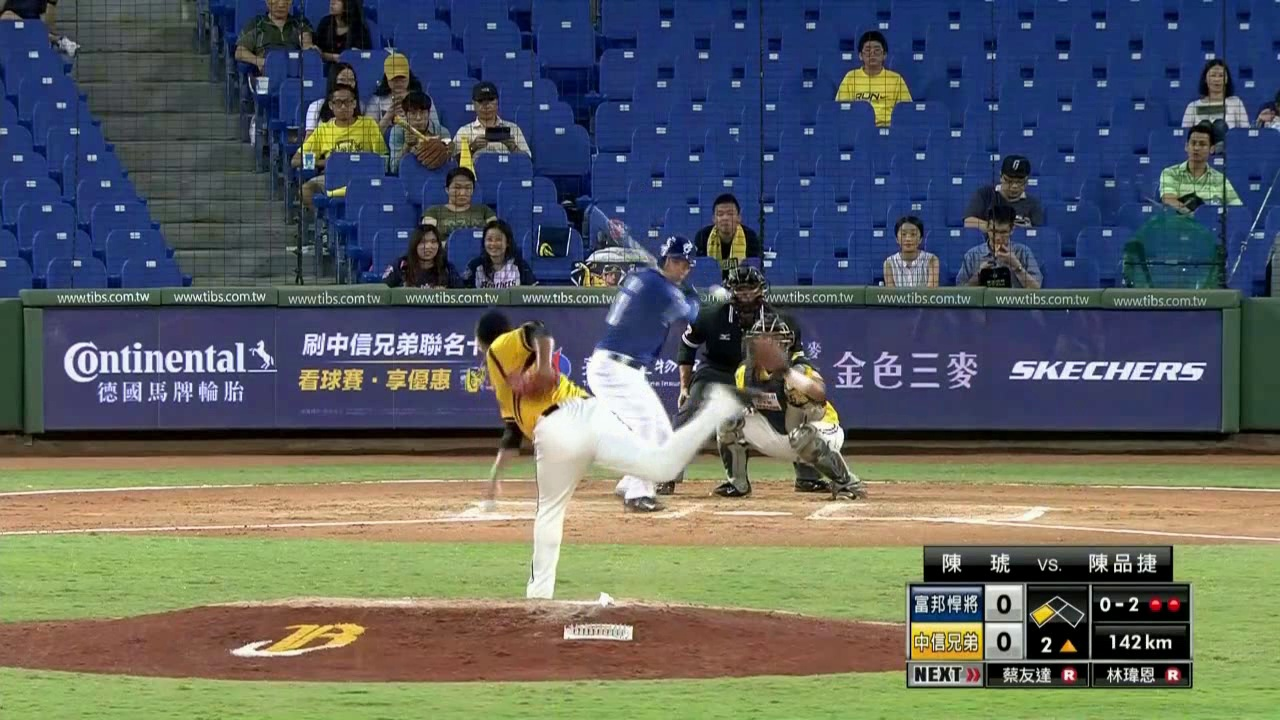ball: (708, 282, 734, 303)
base: (1027, 593, 1086, 630)
bat: (578, 198, 663, 266)
out: (1148, 591, 1183, 620)
score1: (986, 587, 1021, 617)
score2: (986, 624, 1022, 658)
session: (1030, 634, 1086, 659)
speed: (1099, 629, 1180, 657)
strikeball: (1093, 589, 1144, 617)
